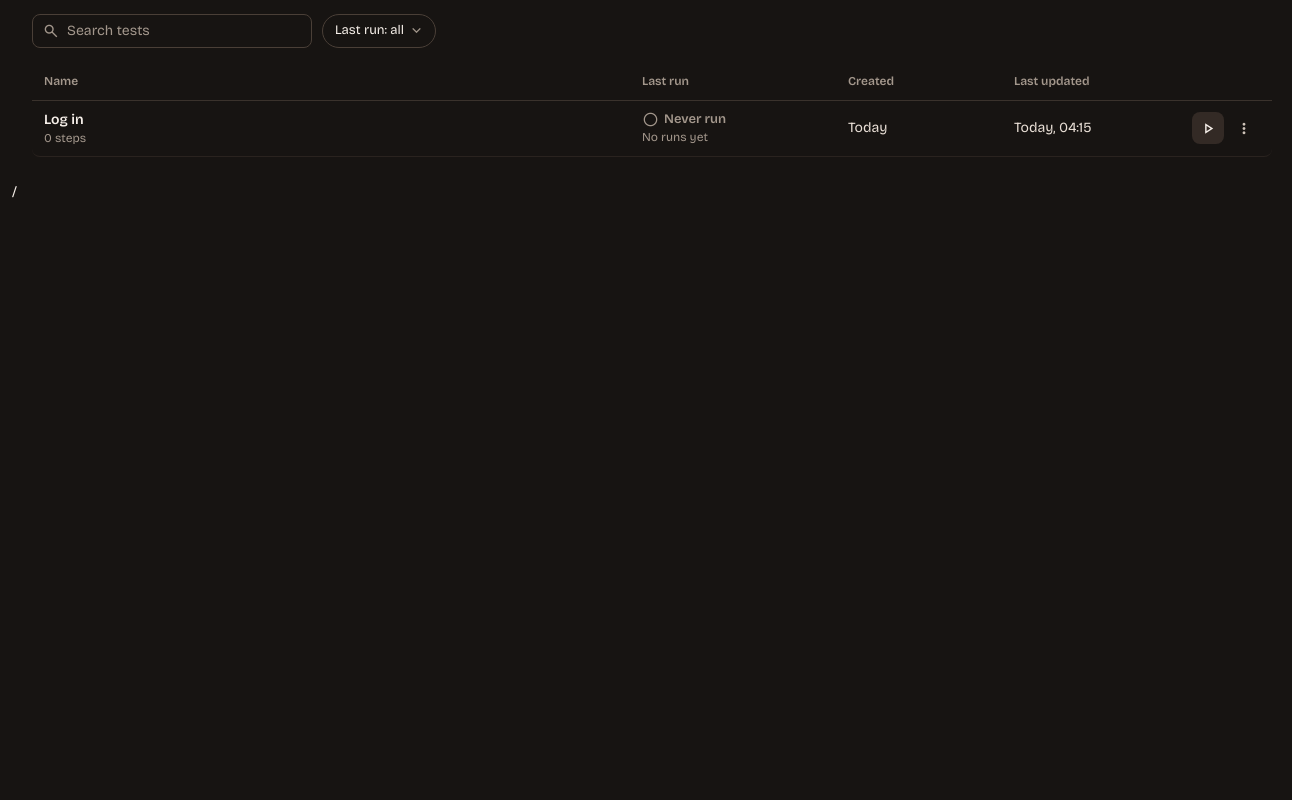
Test case: Deleting a test › offers the way to Recently deleted
Click the button named "More for Log in": (1244, 128) [1228, 112, 1260, 144]
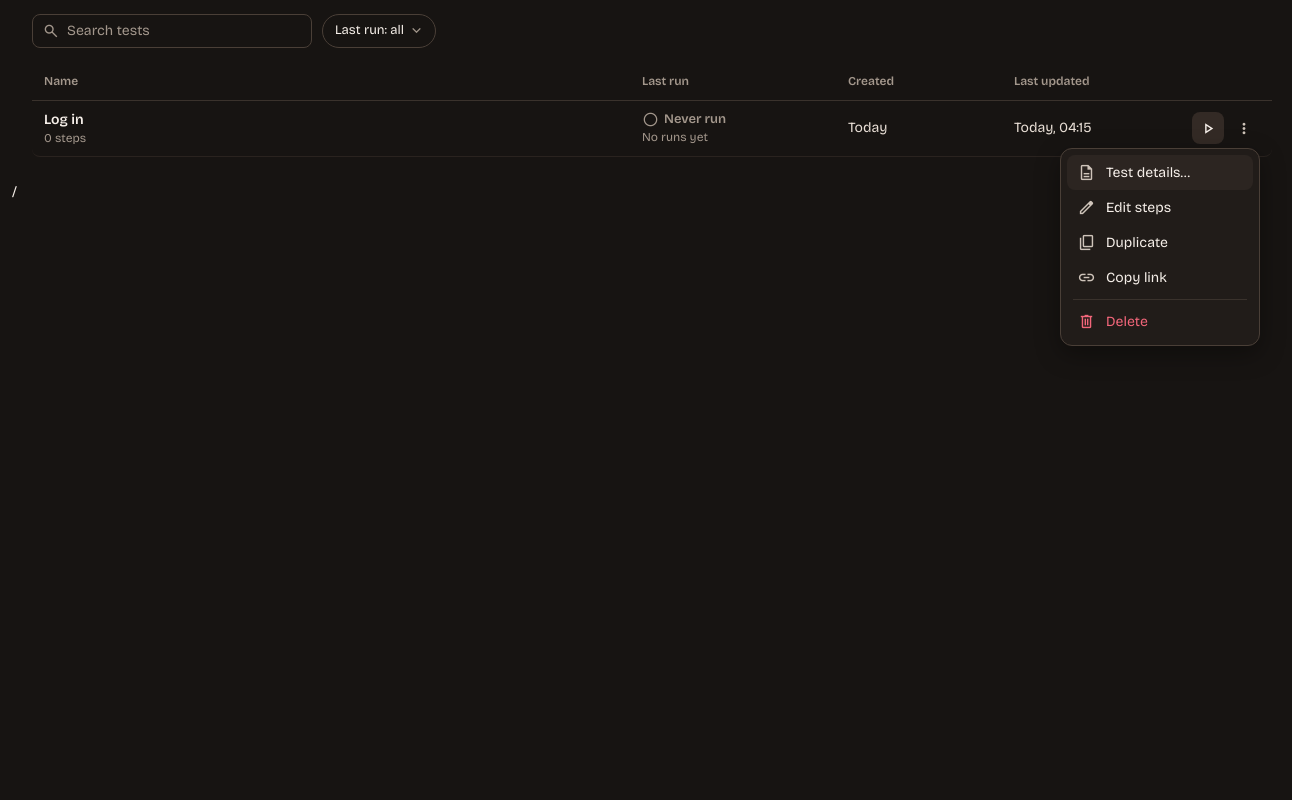
Click the menu item "Delete": (1160, 322) [1067, 304, 1253, 339]
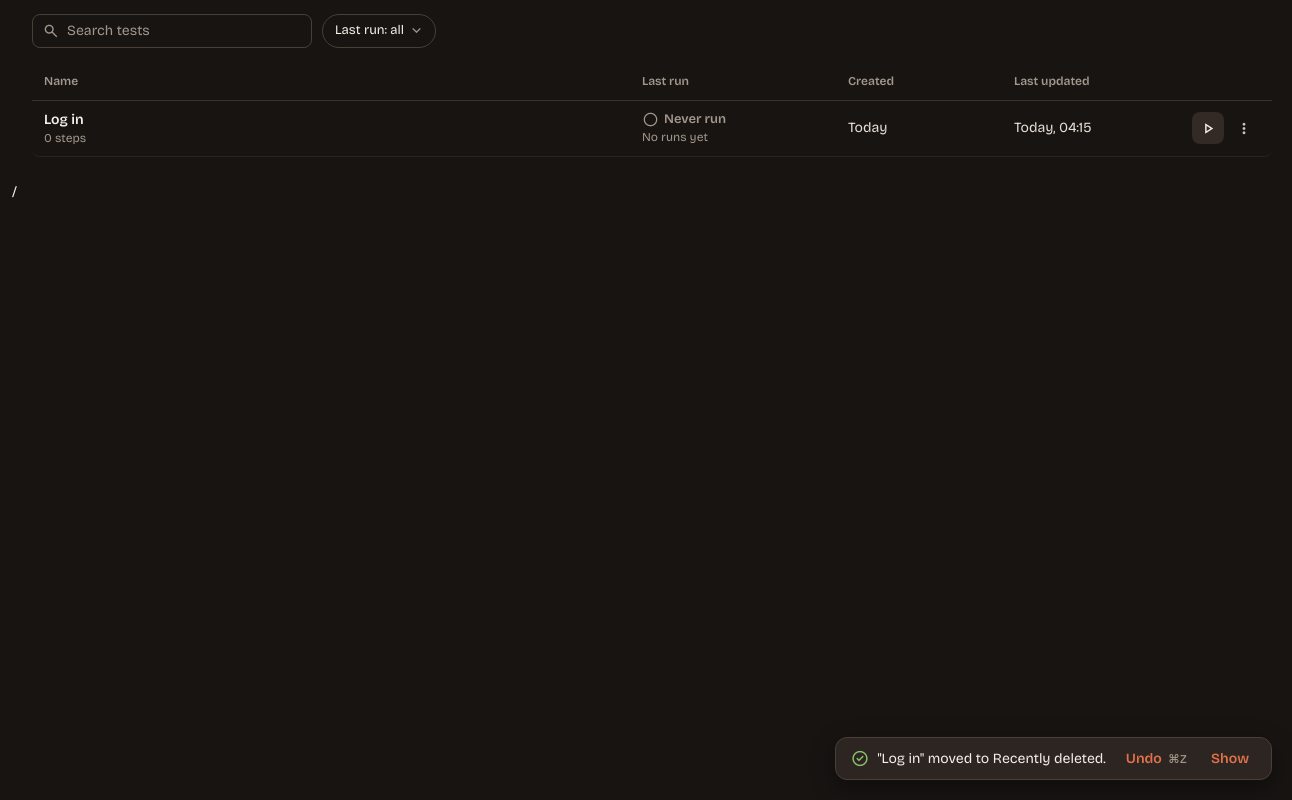
Click the button with aria-label "Show Recently deleted": (1230, 758) [1203, 744, 1257, 773]
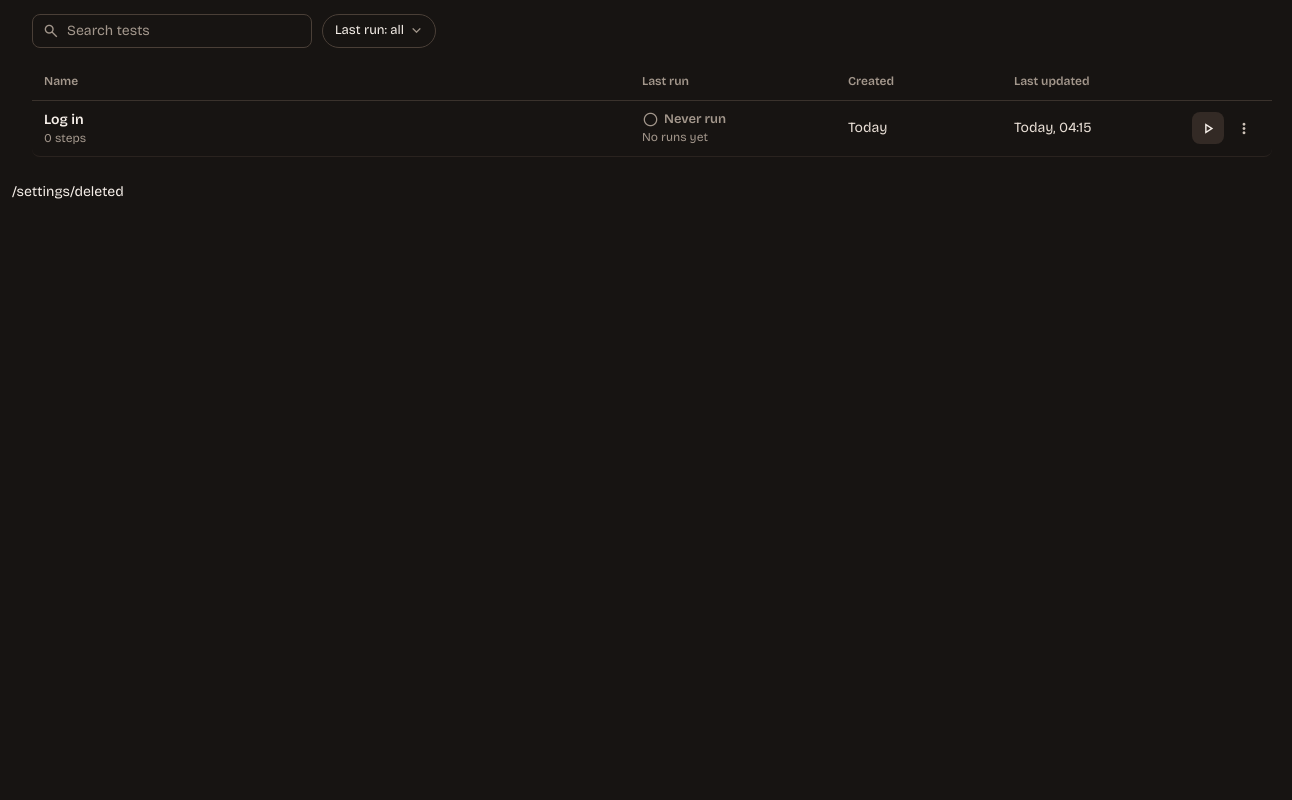
expect the text with test id "where" reads "/settings/deleted": met, box [12, 183, 124, 200]
expect the text "\"Log in\" moved to Recently deleted." is gone: met
